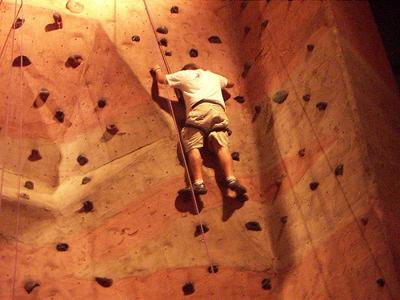person: (148, 62, 248, 198)
